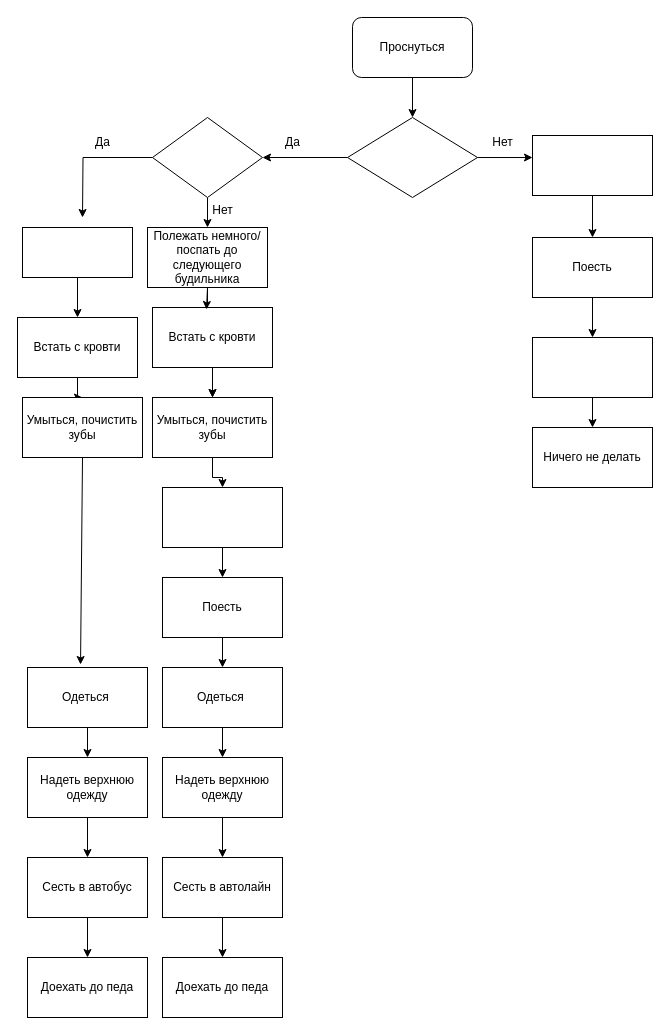
This 670x1035 diagram has some shape labels left out. The shapes that lost their labels are listed below. From the top down, each one's centre as x and y in pixels, then its label:
At point (207, 157): "К 1 паре".
At point (412, 157): "Учебный день".
At point (592, 165): "Лежать в телефоне, пока не надоест".
At point (77, 252): "Встать с кровати".
At point (592, 367): "Сделать дела по дому".
At point (222, 517): "Помыть голову".
